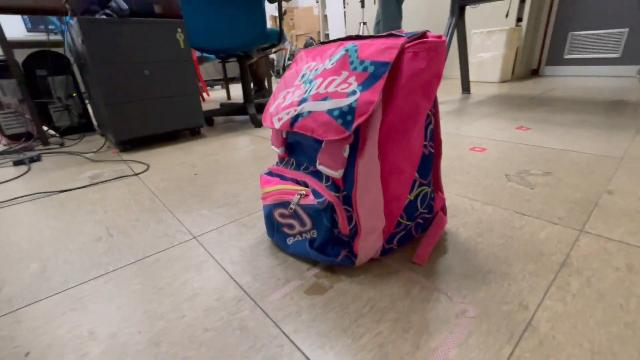Backpack: (247, 22, 457, 280)
